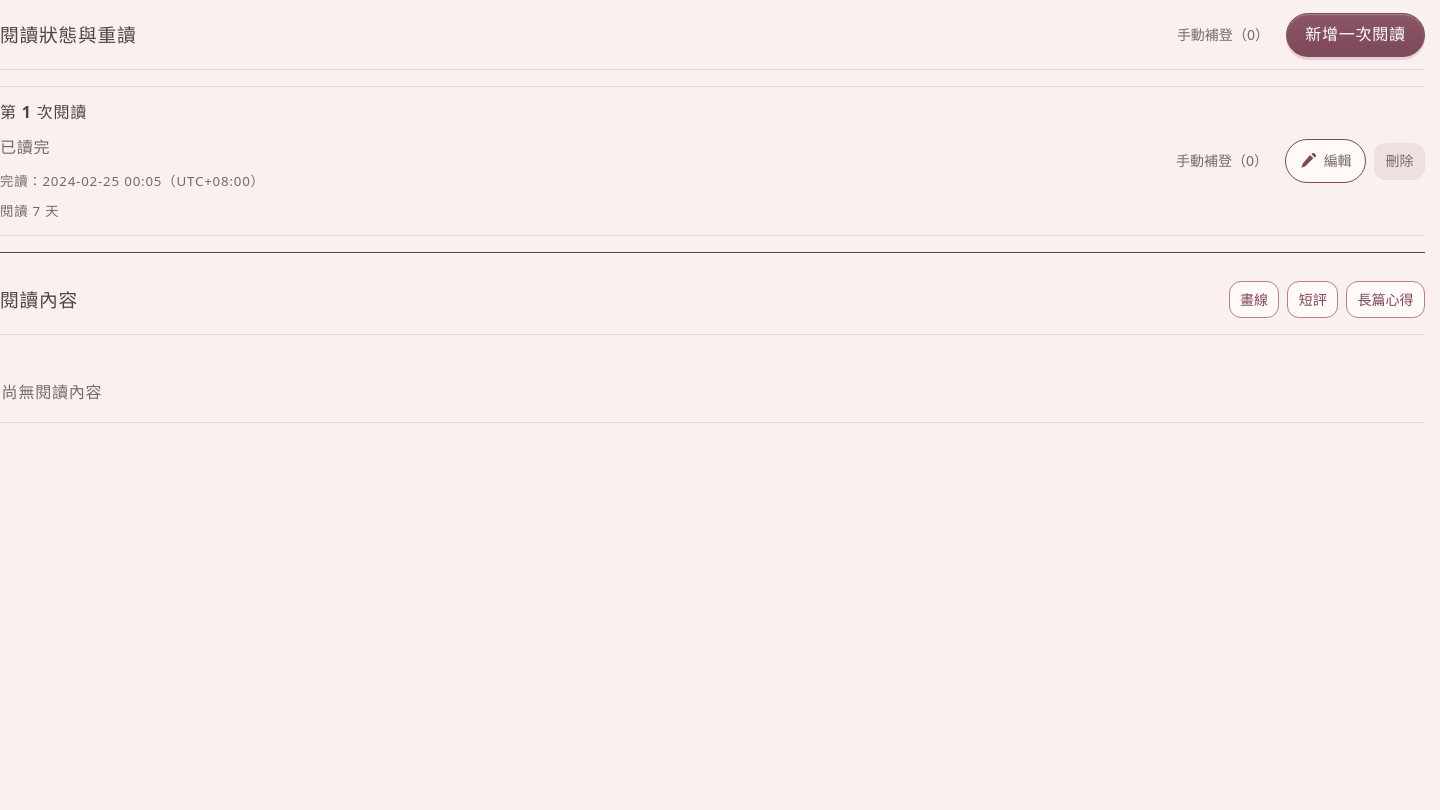
Test: reading cycle dates › shows source minute and offset, and preserves it after a days edit
This screenshot has width=1440, height=810.
Expected: the text "完讀：2024-02-25 00:05（UTC+08:00）" is shown, [0, 170, 265, 192]
Click the button "編輯" at [1326, 161], box [1285, 139, 1366, 183]
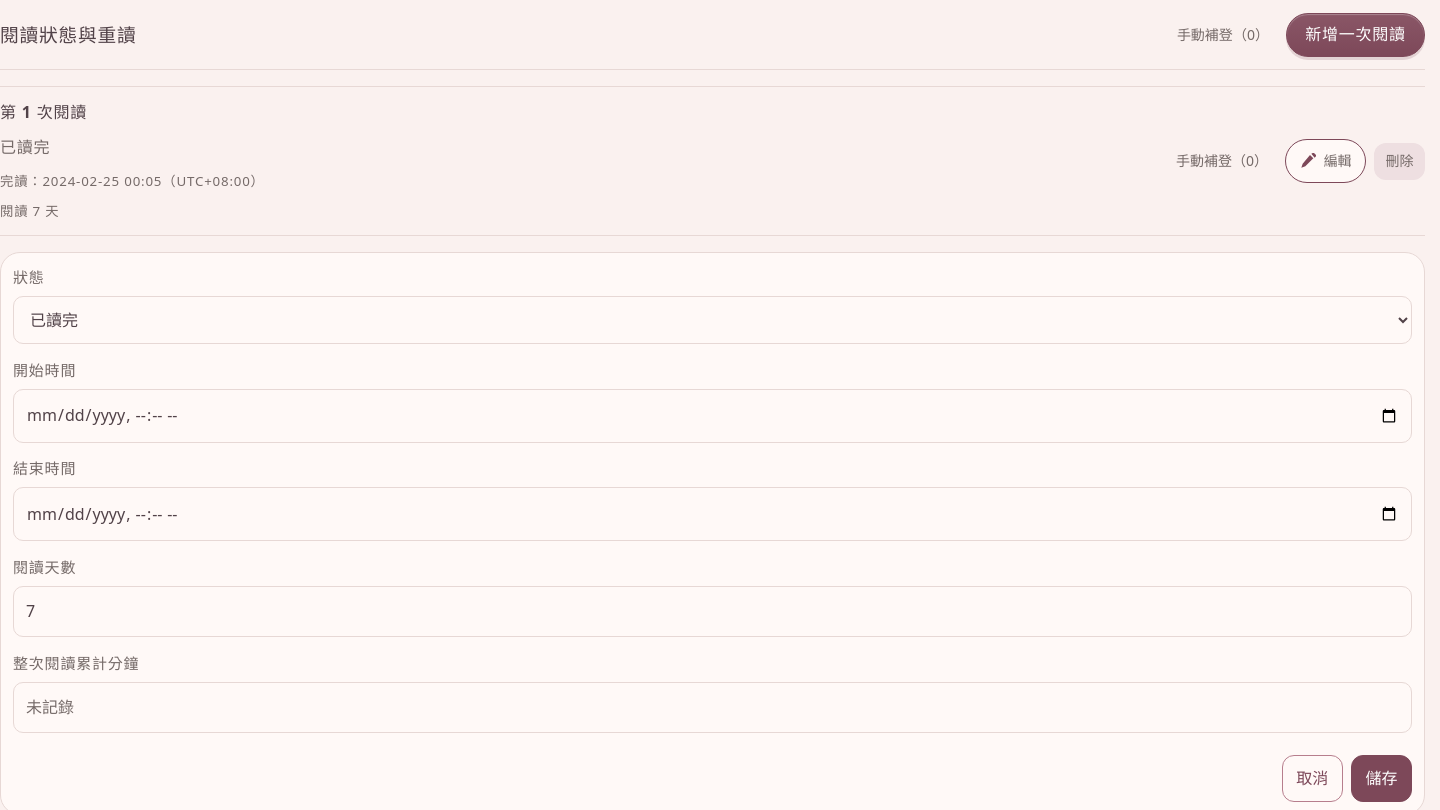
Replace the text in the number field labelled "閱讀天數" with "8" at [712, 611], box [13, 586, 1412, 637]
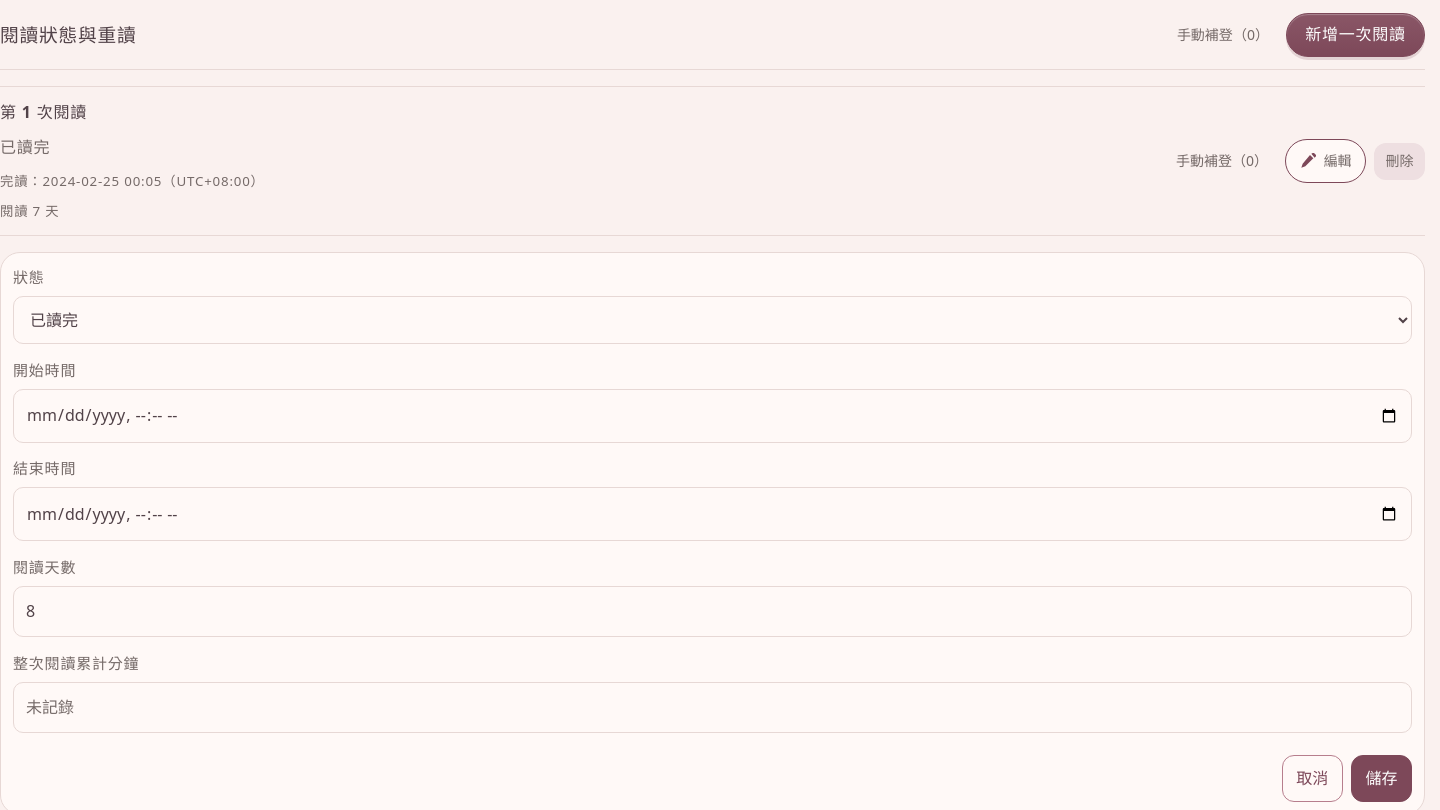
Click the button "儲存" at [1381, 778], box [1351, 755, 1412, 802]
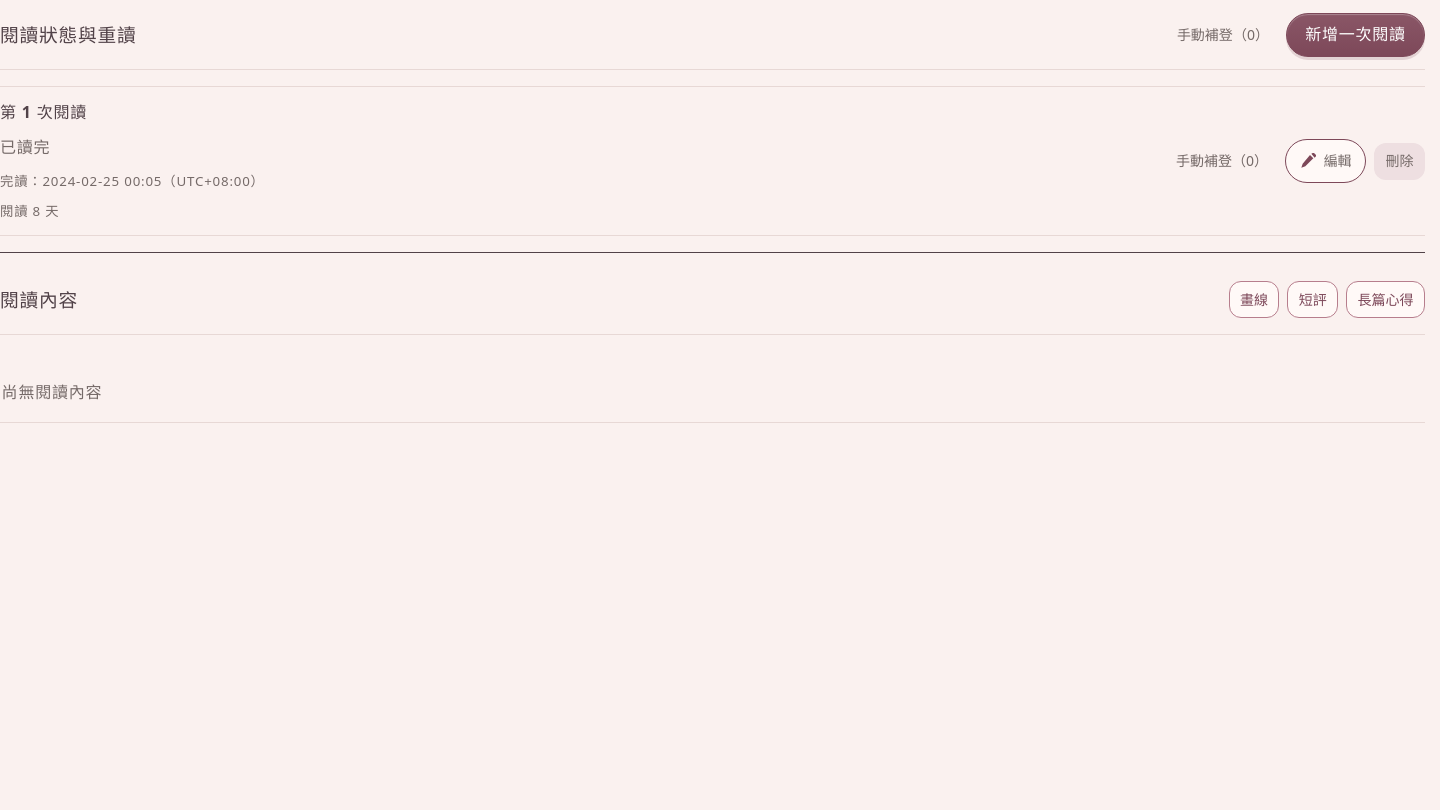
Expected: the text "完讀：2024-02-25 00:05（UTC+08:00）" is shown, [0, 170, 265, 192]
Result: the text "閱讀 8 天" is shown at [0, 202, 59, 220]
